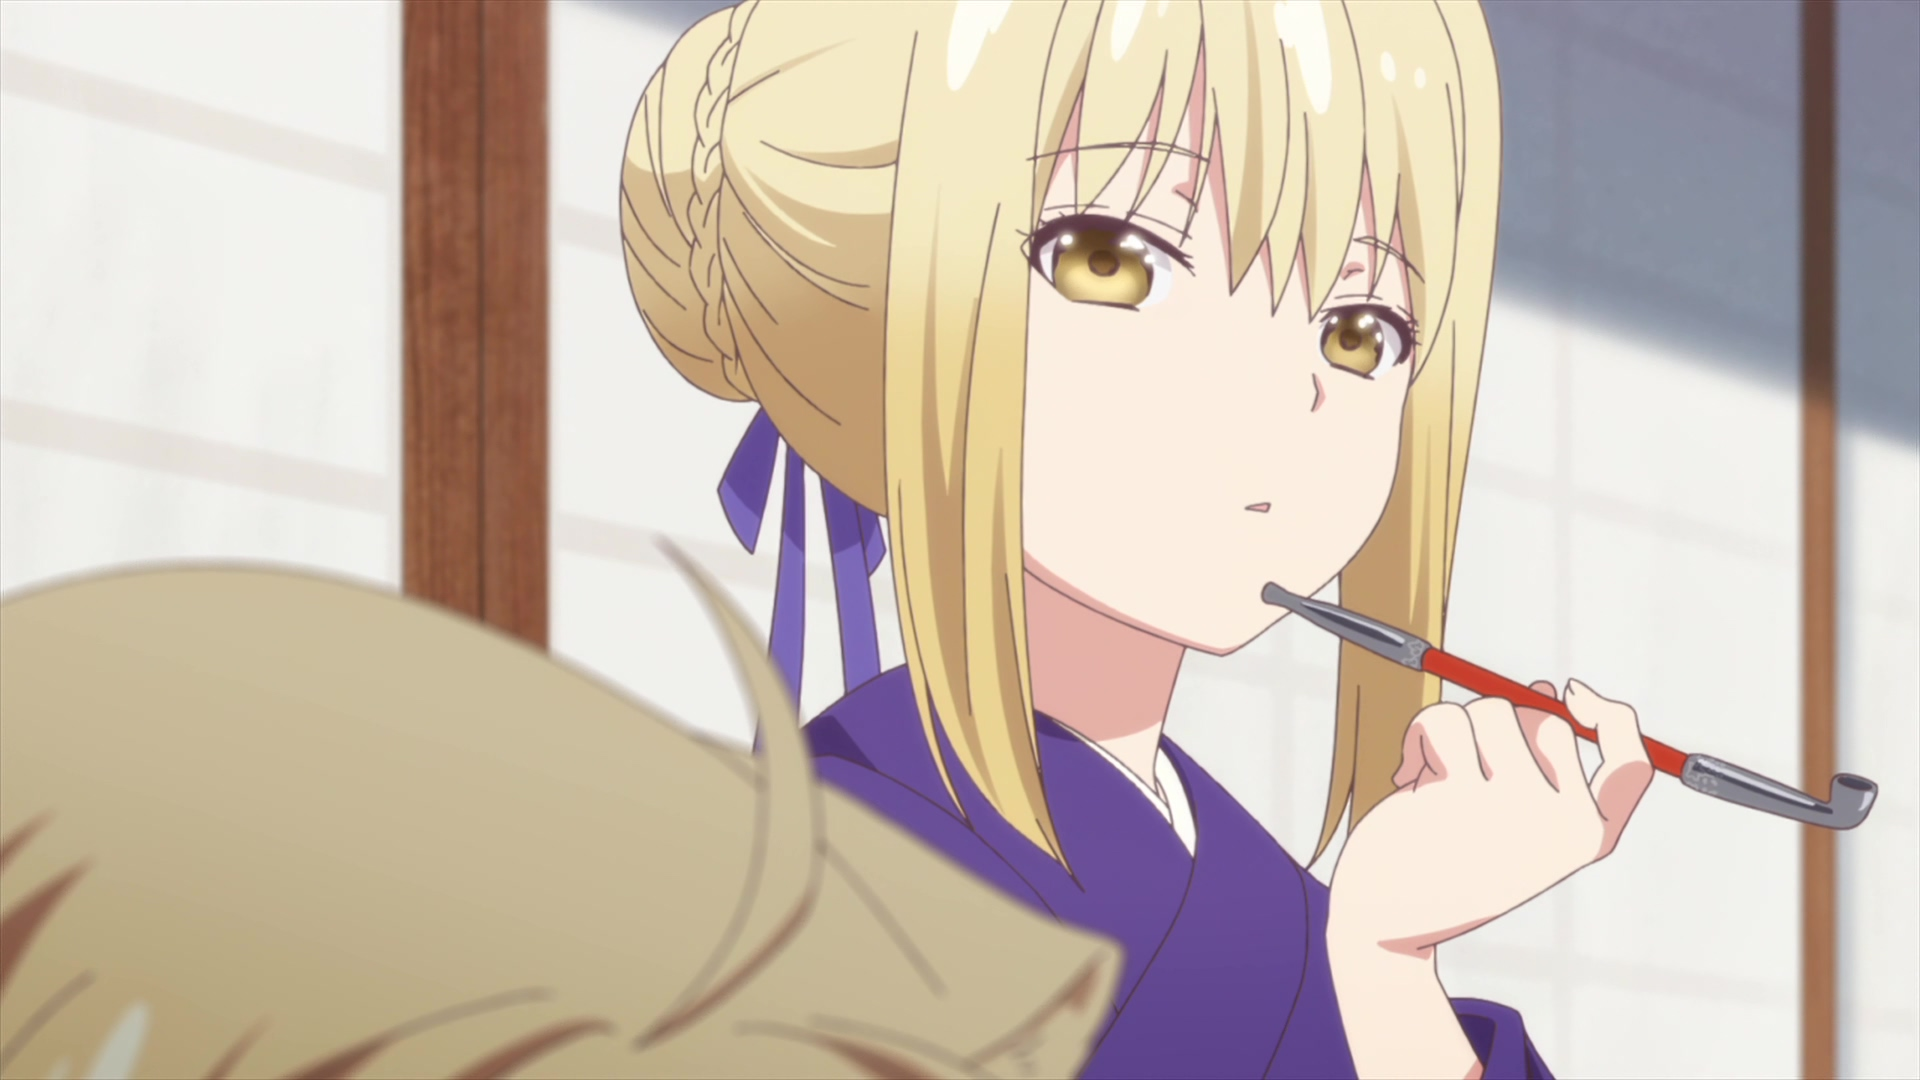柚: (1, 535, 1124, 1080)
桐: (618, 1, 1655, 1080)
